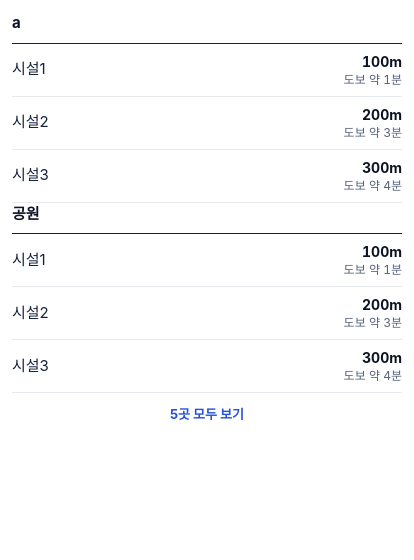
NearbyPlaceSection — 섹션 머리 + 행 목록 › 3곳 이하면 버튼이 없고, 초과면 "n곳 모두 보기"/"접기" 를 aria-expanded 로 토글한다
The width and height of the screenshot is (414, 560).
Step 1. Click the button "5곳 모두 보기" → (207, 415), box [12, 393, 402, 437]
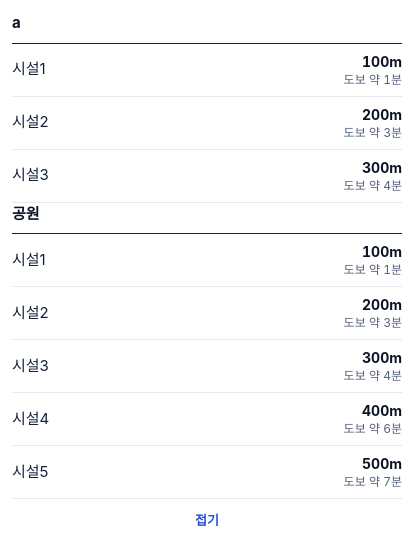
Now the button "접기" is expanded
Now the button "접기" is shown
Step 2. Click the button "접기" → (207, 521), box [12, 499, 402, 543]
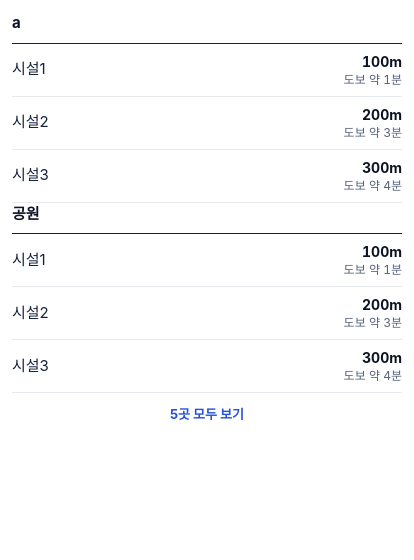
Now the button "5곳 모두 보기" is collapsed, box [12, 393, 402, 437]
